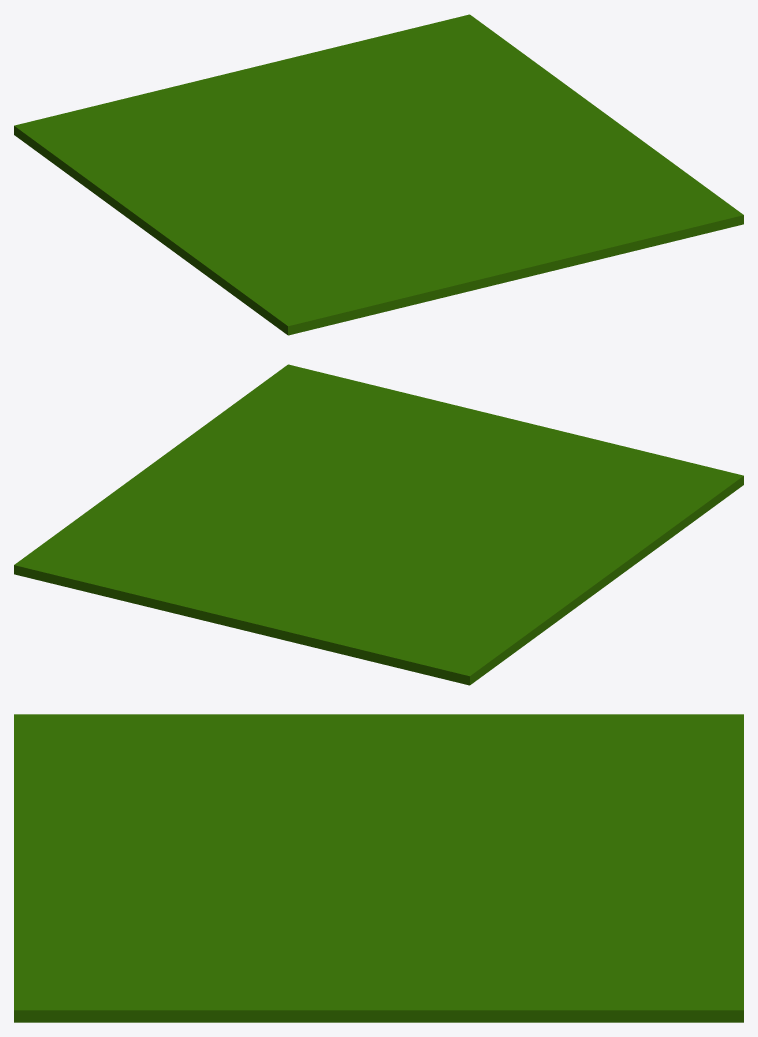
File: Undergrass.fbx
3 views of the same model, one above another, from view 1: azimuth 30°, elevation 25°; view 2: azimuth 150°, elevation 25°; view 3: azimuth 270°, elevation 25° (orthographic). The views are drawn at different scales.
Visible parts, largest first — view 1: pCube4; view 2: pCube4; view 3: pCube4.
Part boxes in pixels (x1,y1,x2,y2): pCube4: (14, 14, 743, 335); pCube4: (14, 364, 743, 685); pCube4: (14, 714, 743, 1022).
Bounding box in the file's own units: 51.46 × 1 × 53.6.
